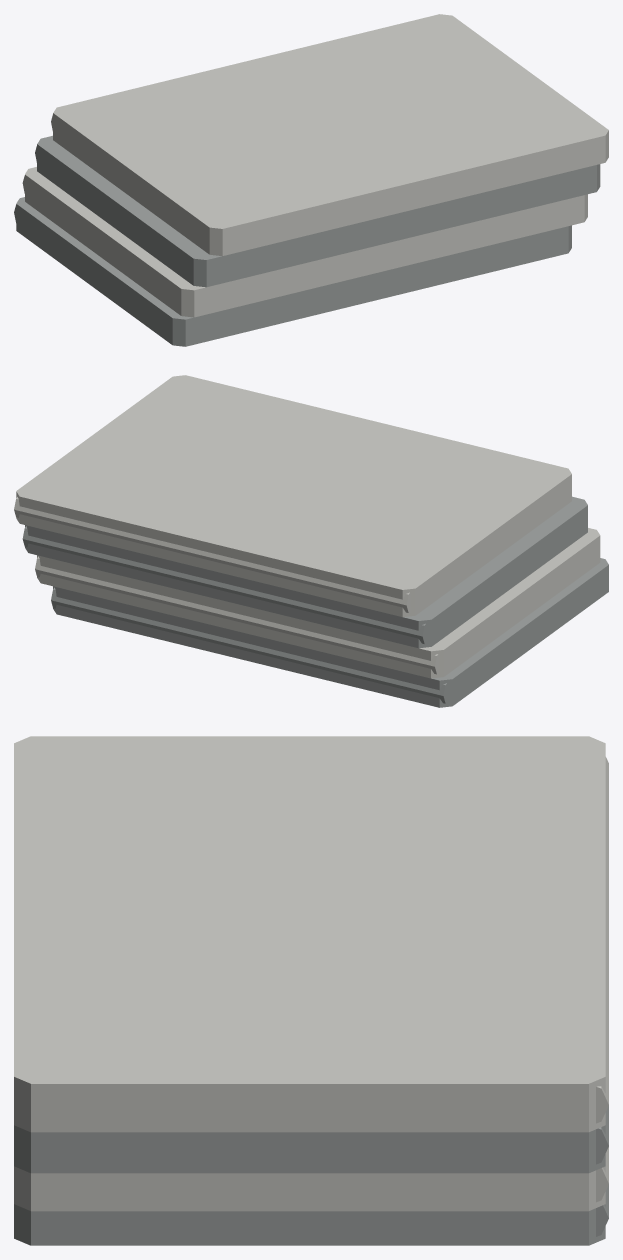
File: SM_LPI_Text_Throw_01.fbx
3 renders of one model, top to bottom at view 1: azimuth 30°, elevation 25°; view 2: azimuth 150°, elevation 25°; view 3: azimuth 270°, elevation 25°, orthographic. The views are drawn at different scales.
Parts seen in each view (by area): view 1: SM_LPI_Text_Throw_01; view 2: SM_LPI_Text_Throw_01; view 3: SM_LPI_Text_Throw_01.
Part boxes in pixels (x1,y1,x2,y2): SM_LPI_Text_Throw_01: [14, 14, 608, 346]; SM_LPI_Text_Throw_01: [14, 375, 608, 707]; SM_LPI_Text_Throw_01: [14, 736, 608, 1245].
Size of the model in its own units: 0.6378 by 0.152 by 0.4223.
